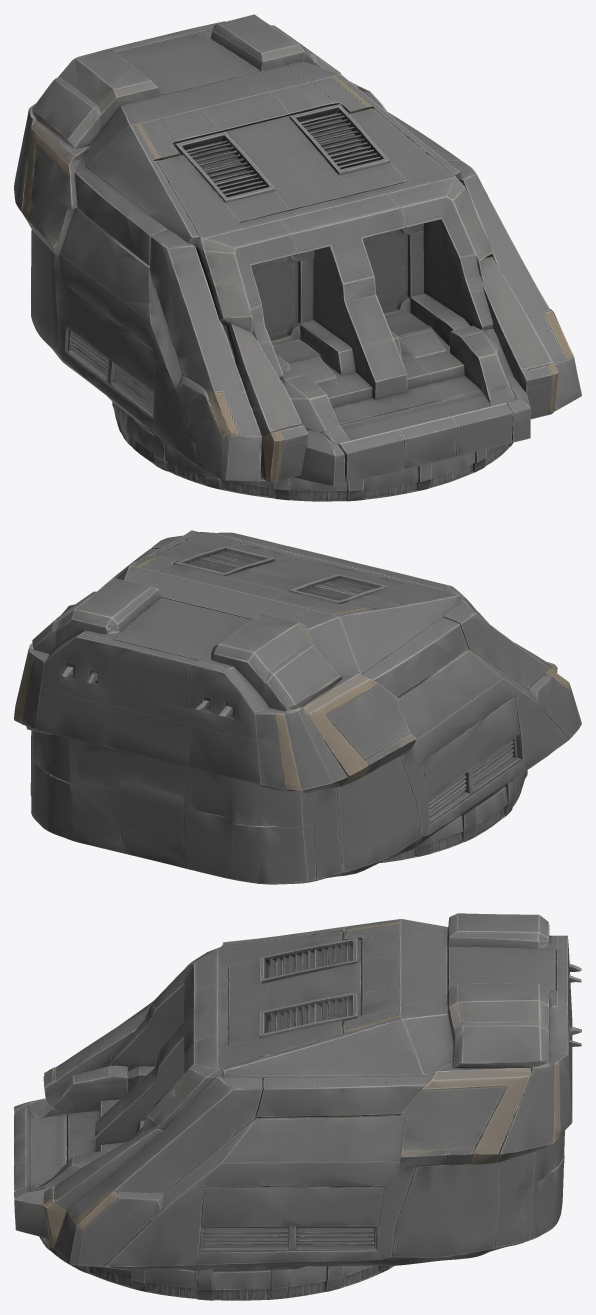
Rendered from shared_defence_battery__turret_head.glb.
3 renders of one model, top to bottom at view 1: azimuth 30°, elevation 25°; view 2: azimuth 150°, elevation 25°; view 3: azimuth 270°, elevation 25°, orthographic. The views are drawn at different scales.
Parts seen in each view (by area): view 1: mesh_node; view 2: mesh_node; view 3: mesh_node.
Boxes of the visible parts, left/top/right/bottom form: mesh_node: left=14, top=14, right=581, bottom=501; mesh_node: left=14, top=530, right=581, bottom=884; mesh_node: left=14, top=913, right=581, bottom=1300.
Bounding box in the file's own units: 14.02 × 9.56 × 18.94.
Materials: 1 (1 with a texture image).
